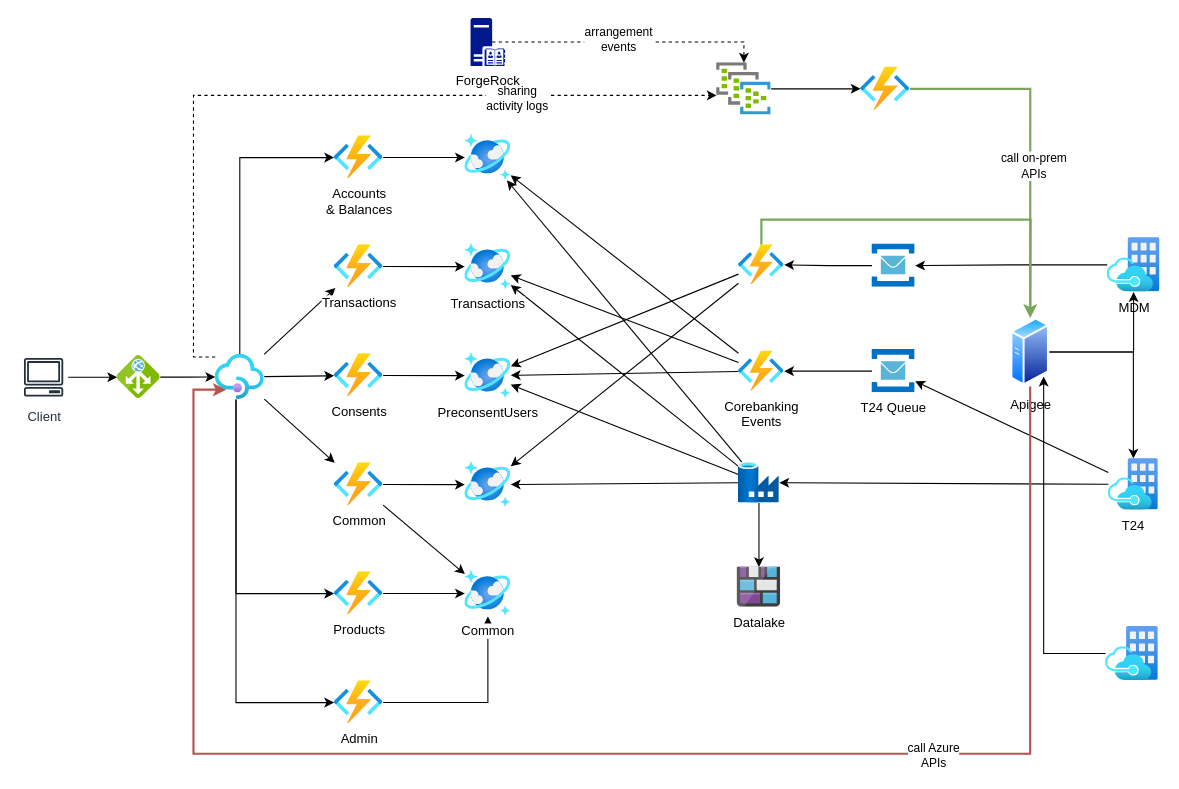
The diagram is 1179 pixels wide and 789 high, and some of its shapes have lost their labels. The centre of each missing label's shape, as x and y in pixels:
Accounts: the point at 487,157
API Management: the point at 239,376
Application Gateway: the point at 138,376
Customers: the point at 487,484
Data Factory: the point at 758,482
EventHub: the point at 743,88
MDM Events: the point at 761,264
MDM Queue: the point at 893,265
Pega: the point at 1131,653
